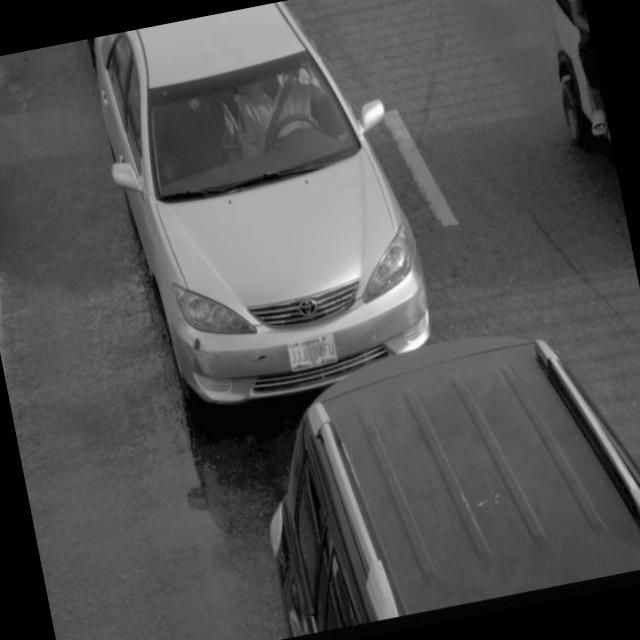person_with_seatbelt: (226, 53, 340, 170)
